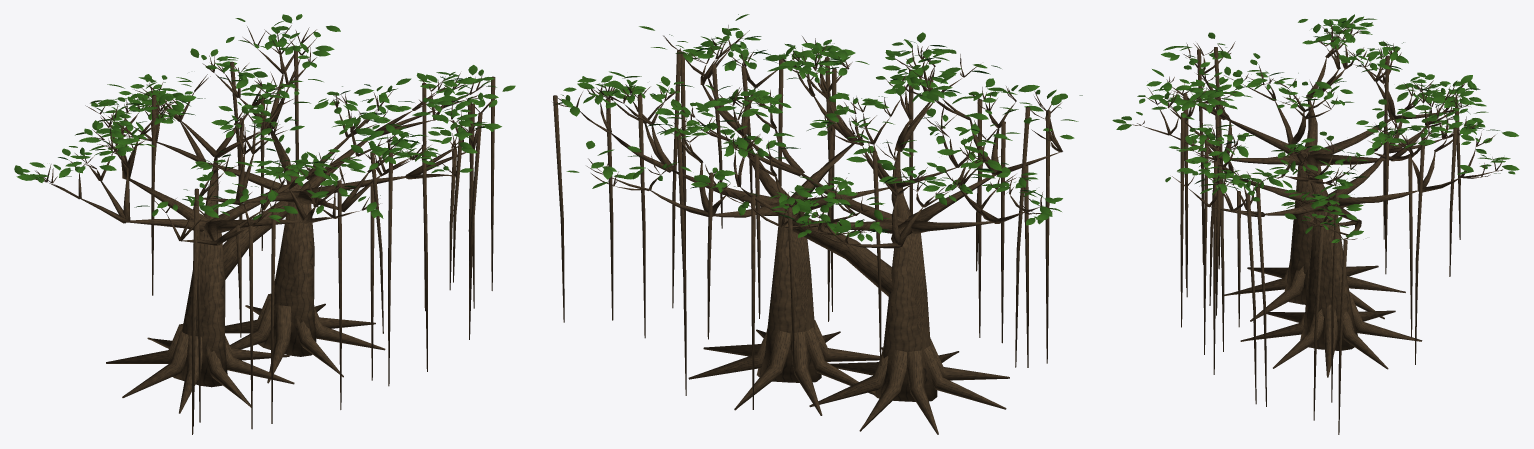
The model's file is 01_banyan_v3_twin.glb.
The picture shows the model from 3 angles, left to right: view 1: azimuth 30°, elevation 25°; view 2: azimuth 150°, elevation 25°; view 3: azimuth 270°, elevation 25°; orthographic projection. The views are drawn at different scales.
Parts seen in each view (by area): view 1: 01_banyan_v3_twin | Banyan | fissured warm bark, Banyan variant | leaf canopy.001; view 2: 01_banyan_v3_twin | Banyan | fissured warm bark, Banyan variant | leaf canopy.001; view 3: 01_banyan_v3_twin | Banyan | fissured warm bark, Banyan variant | leaf canopy.001.
Part boxes in pixels (x1=…): 01_banyan_v3_twin | Banyan | fissured warm bark: x1=34, y1=25, x2=495, y2=434; Banyan variant | leaf canopy.001: x1=14, y1=14, x2=515, y2=222; 01_banyan_v3_twin | Banyan | fissured warm bark: x1=552, y1=25, x2=1062, y2=434; Banyan variant | leaf canopy.001: x1=555, y1=14, x2=1082, y2=241; 01_banyan_v3_twin | Banyan | fissured warm bark: x1=1130, y1=20, x2=1502, y2=434; Banyan variant | leaf canopy.001: x1=1112, y1=14, x2=1519, y2=243.
Size of the model in its own units: 8.93 by 4.59 by 6.95.
Materials: 3 (3 with a texture image).
